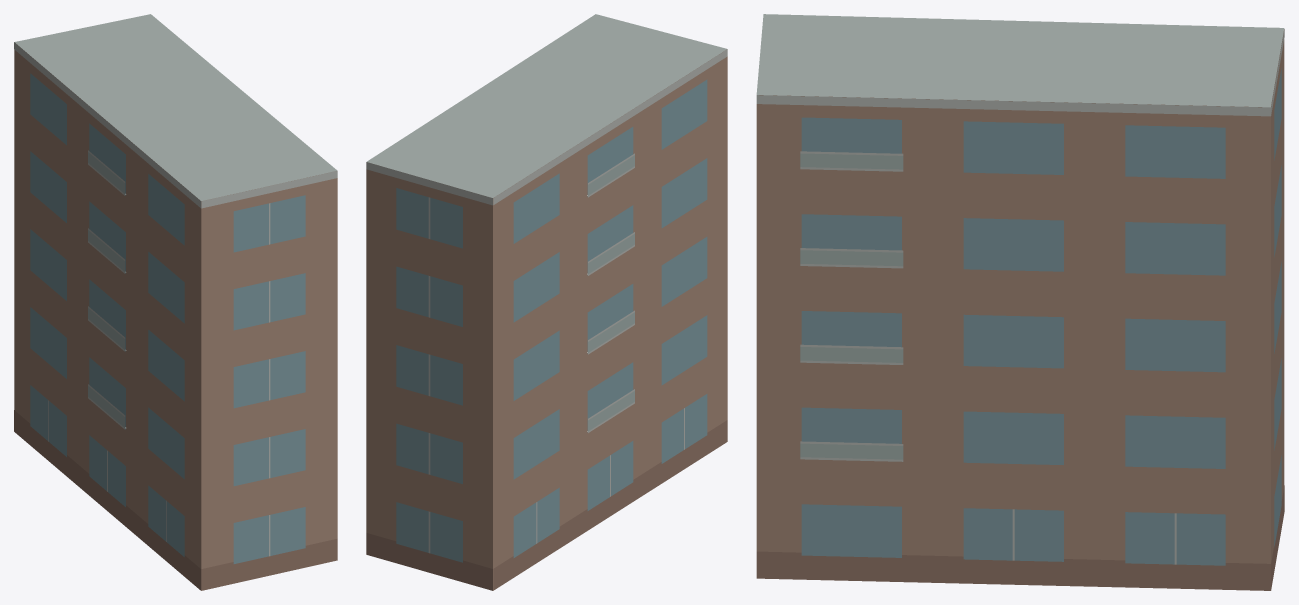
The model's file is survey-upis-32498425.glb.
3 views of the same model, side by side, from view 1: azimuth 30°, elevation 25°; view 2: azimuth 150°, elevation 25°; view 3: azimuth 270°, elevation 25° (orthographic). The views are drawn at different scales.
Parts seen in each view (by area): view 1: survey-upis-32498425.tmp; view 2: survey-upis-32498425.tmp; view 3: survey-upis-32498425.tmp.
Boxes of the visible parts, left/top/right/bottom form: survey-upis-32498425.tmp: left=14, top=14, right=337, bottom=590; survey-upis-32498425.tmp: left=366, top=14, right=727, bottom=590; survey-upis-32498425.tmp: left=756, top=14, right=1284, bottom=590.
Size of the model in its own units: 5.39 by 13 by 12.87.
